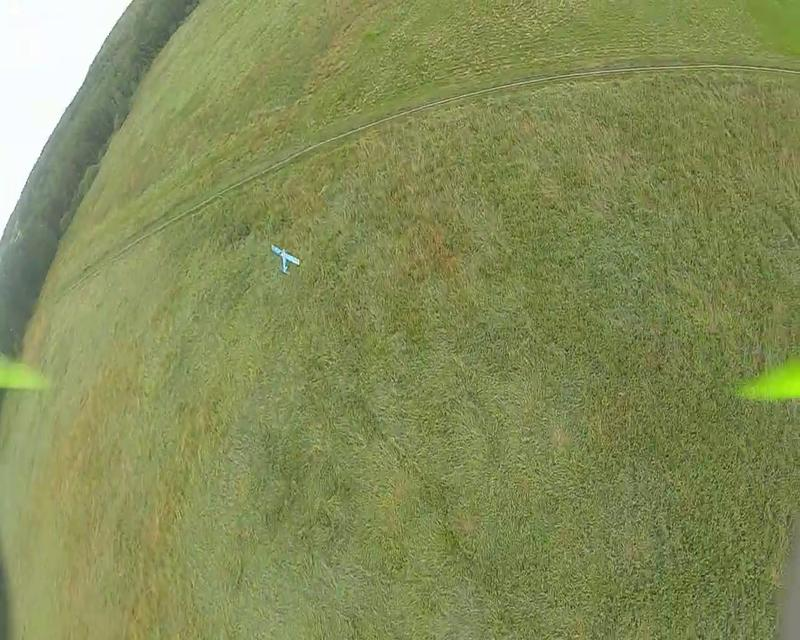UAV: (268, 244, 301, 275)
